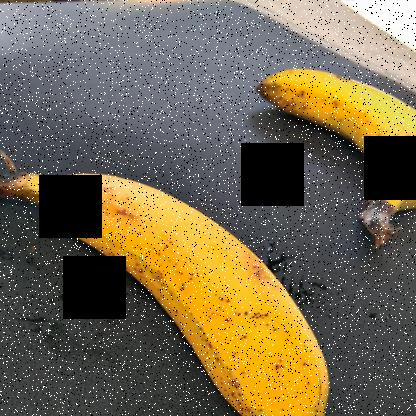ripe: (4, 146, 337, 415), (247, 69, 415, 230)
